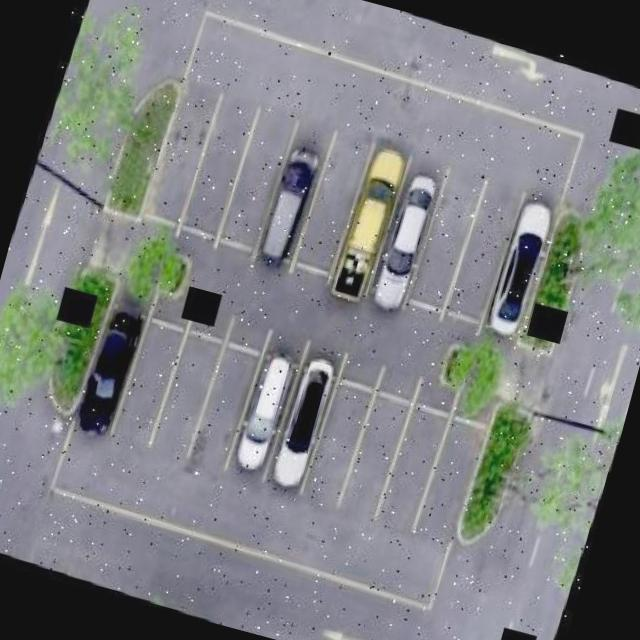car: (330, 146, 408, 302), (366, 164, 442, 312), (73, 302, 148, 444), (225, 346, 300, 485), (268, 359, 342, 498), (256, 134, 330, 272), (485, 194, 554, 336)
free: (448, 179, 524, 327), (408, 168, 484, 316), (294, 129, 370, 276), (183, 97, 260, 239), (142, 85, 218, 226), (218, 110, 294, 250), (113, 317, 189, 456), (185, 338, 260, 477), (338, 391, 414, 524), (298, 376, 372, 511), (374, 402, 449, 534), (413, 416, 488, 548), (150, 330, 223, 464)
